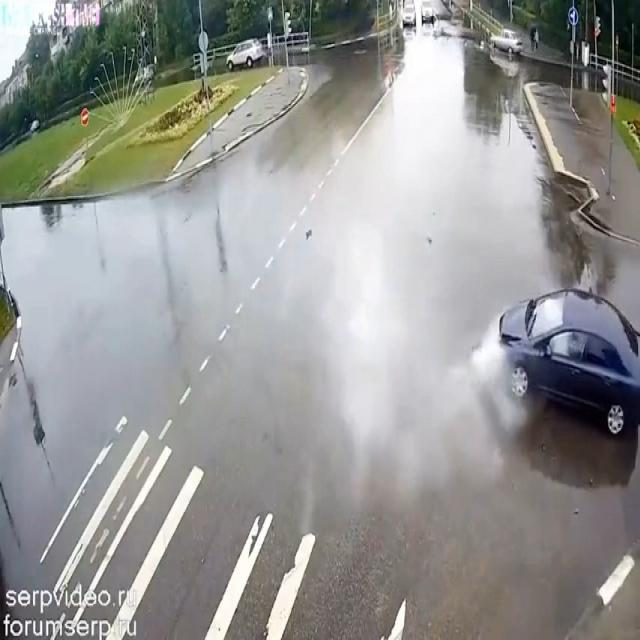Accident: (472, 262, 640, 484)
